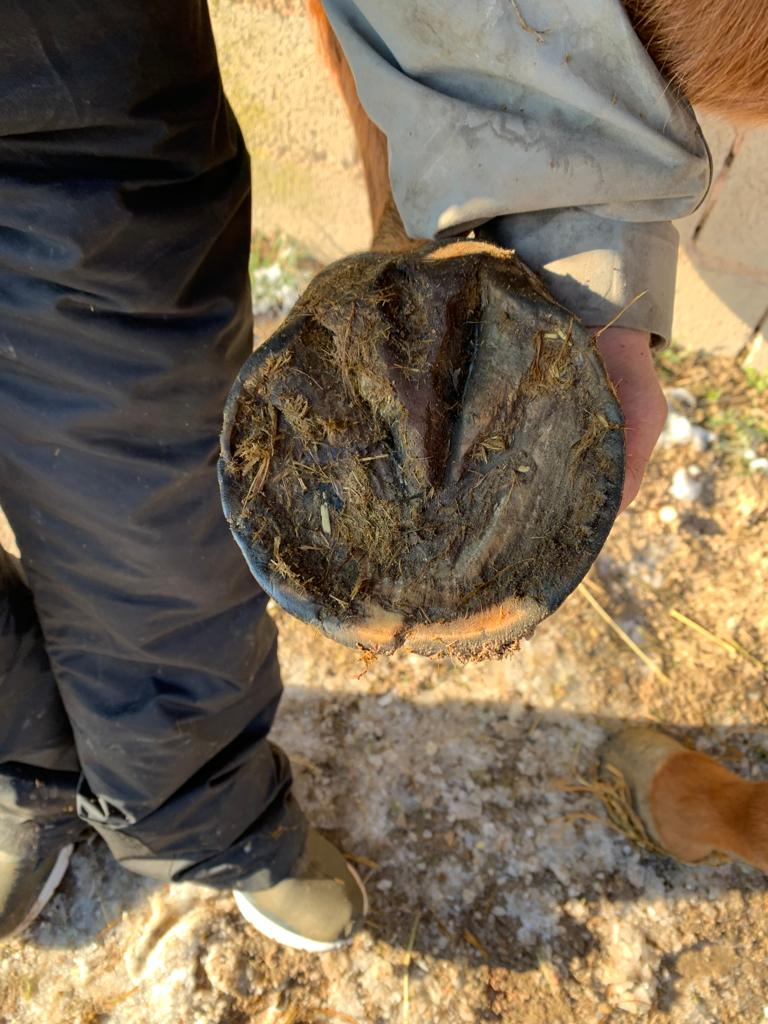horsesole: (213, 260, 625, 659)
